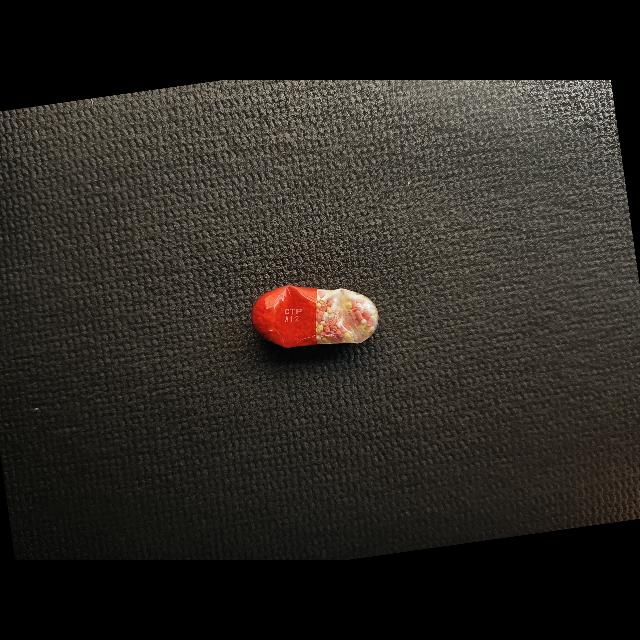Defective Capsule: (251, 285, 379, 348)
